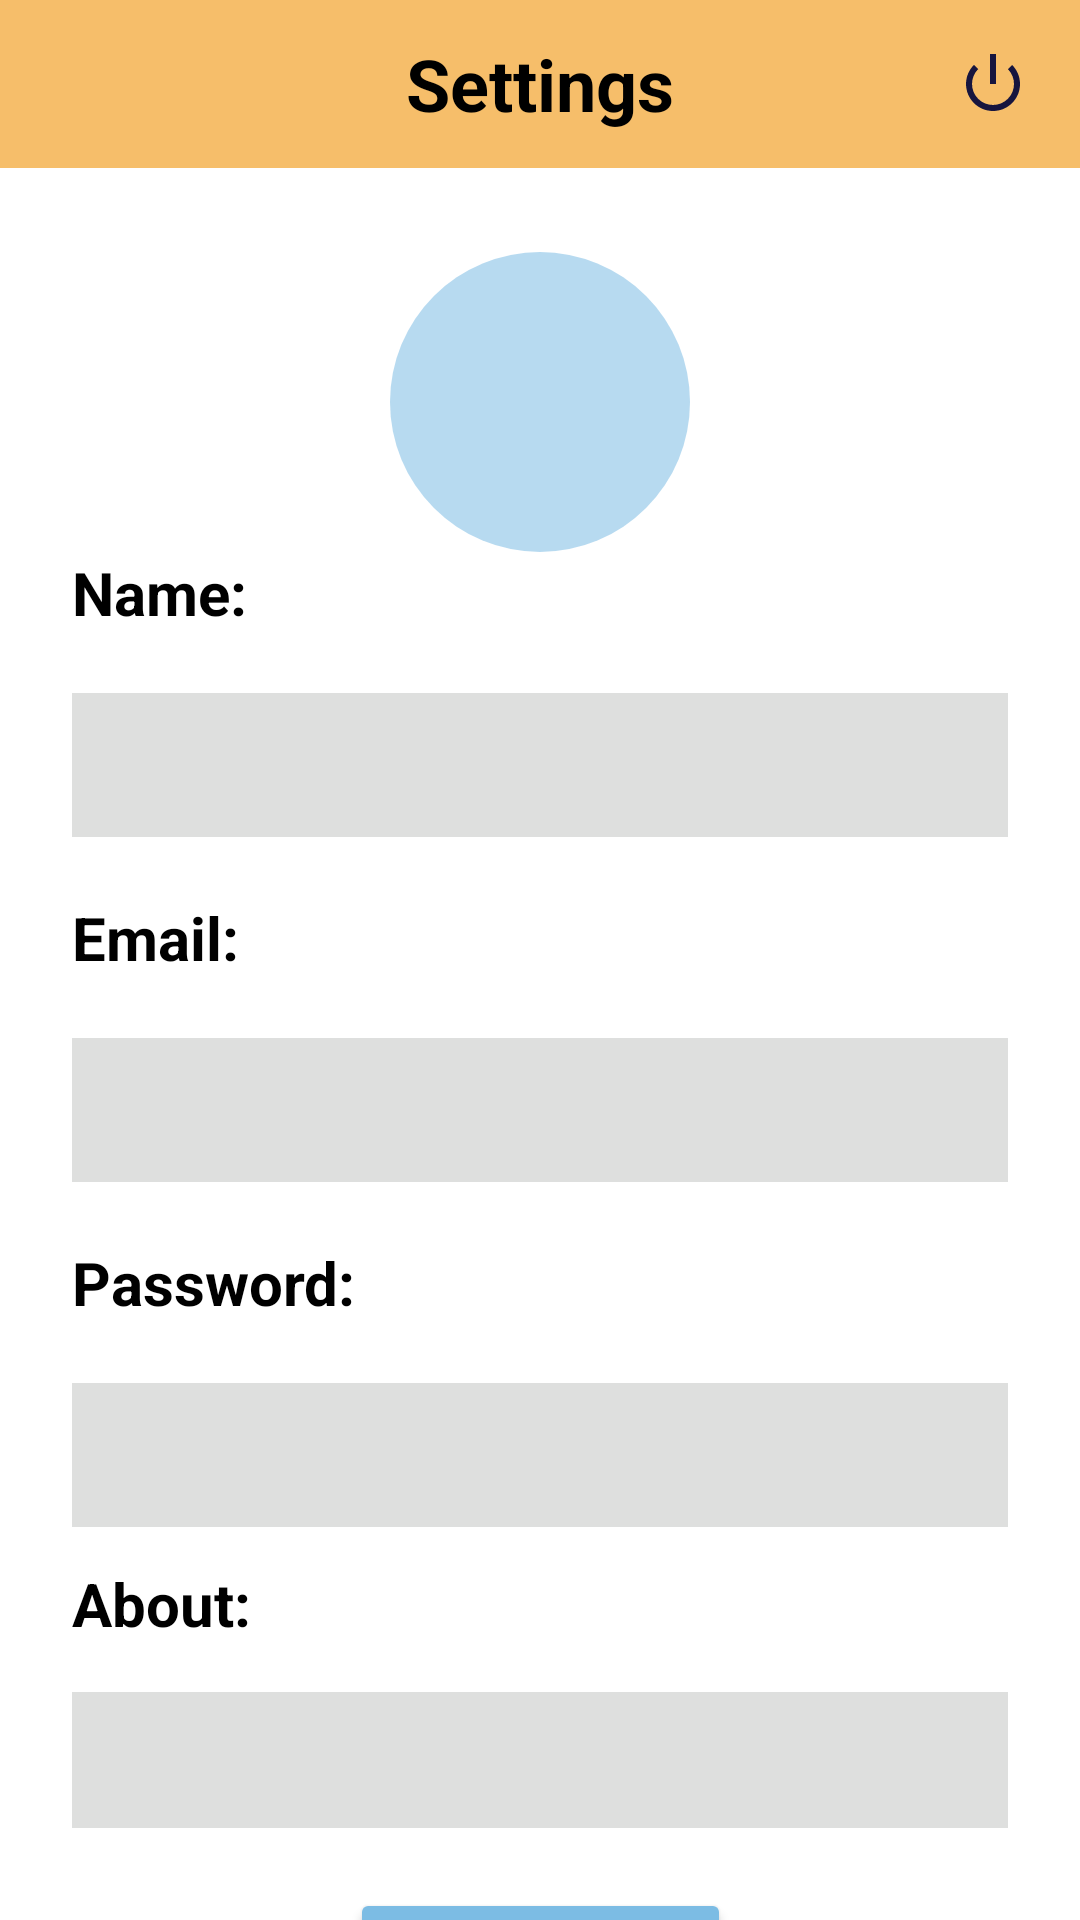

Named icons in this screenshot (1080 x 1920) and their centers, (x=x, y=y):
lock power off: (x=993, y=82)
